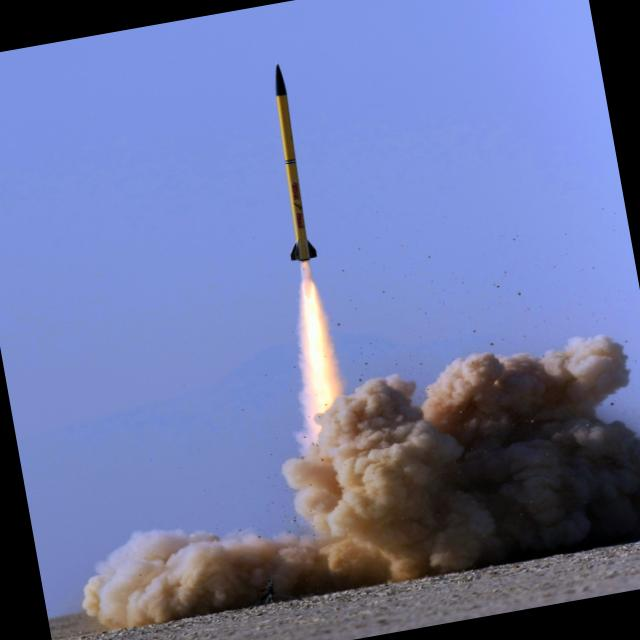rocket: (249, 56, 344, 360)
